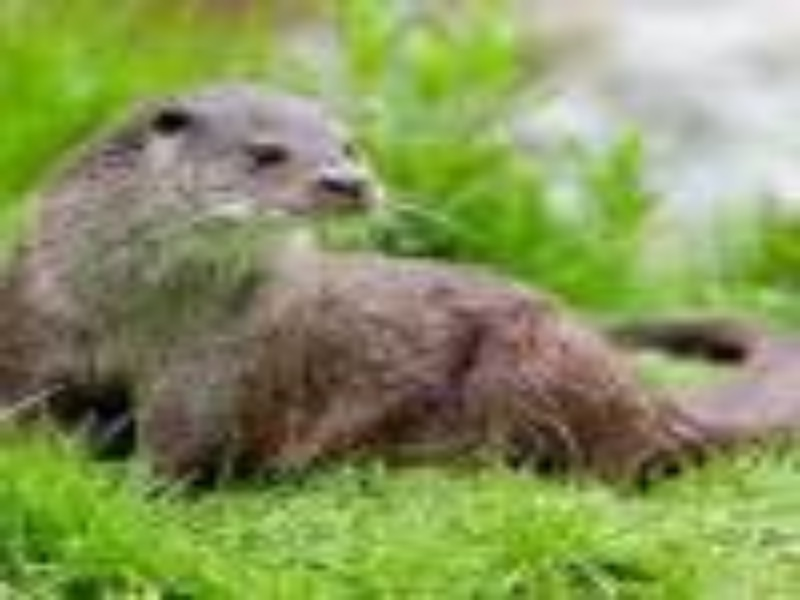minkish: (4, 85, 800, 499)
